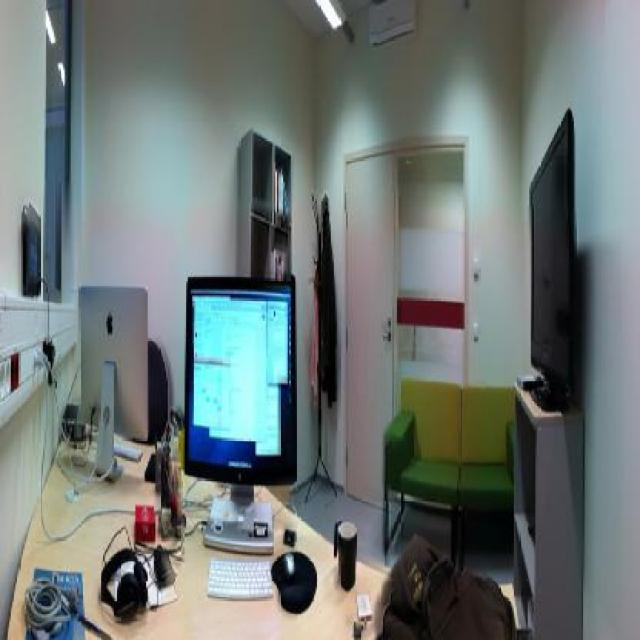laptop_computer: (175, 272, 302, 550), (60, 275, 167, 483)
mouse: (265, 546, 328, 616)
